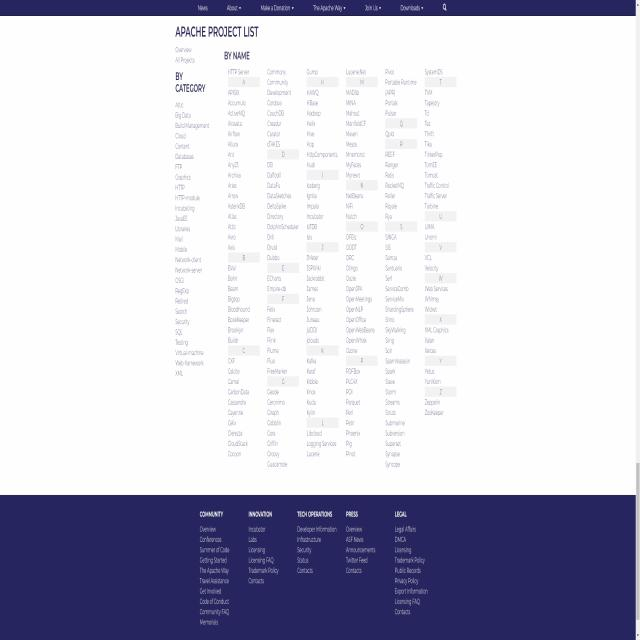menu-panel: (172, 39, 218, 387)
tab-bar: (195, 1, 449, 14)
